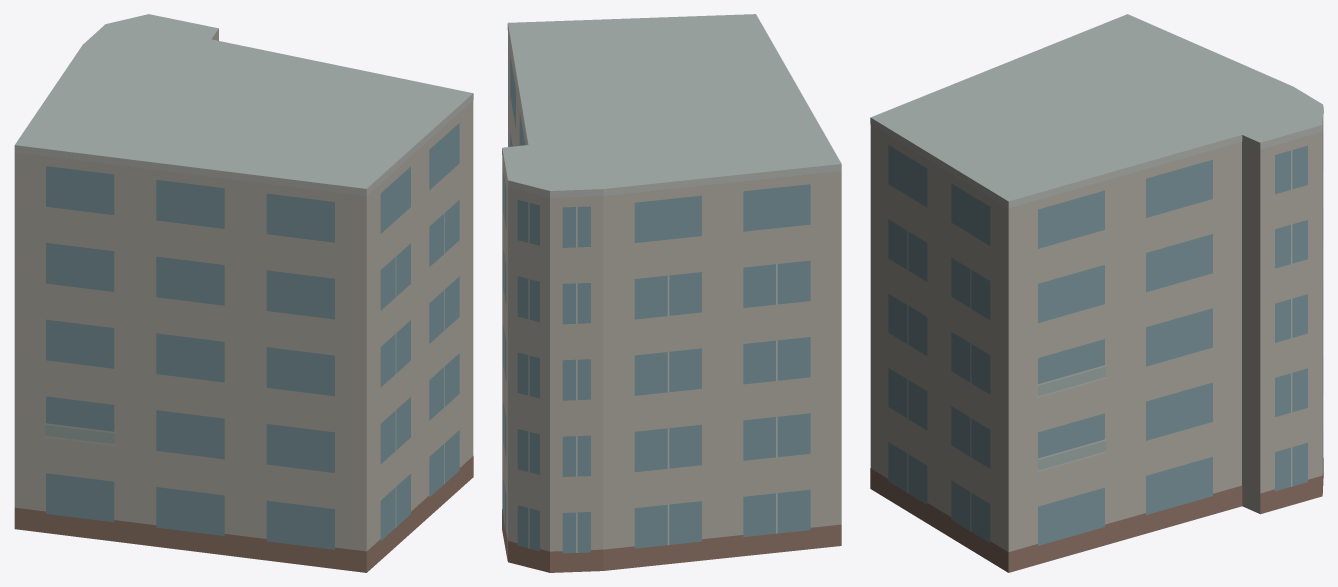
File: survey-upis-33025871.glb
3 renders of one model, left to right at view 1: azimuth 30°, elevation 25°; view 2: azimuth 150°, elevation 25°; view 3: azimuth 270°, elevation 25°, orthographic. The views are drawn at different scales.
Parts seen in each view (by area): view 1: survey-upis-33025871.tmp; view 2: survey-upis-33025871.tmp; view 3: survey-upis-33025871.tmp.
Boxes of the visible parts, bbox=[...] form: survey-upis-33025871.tmp: bbox=[14, 14, 473, 572]; survey-upis-33025871.tmp: bbox=[502, 14, 841, 572]; survey-upis-33025871.tmp: bbox=[870, 14, 1323, 572].
Size of the model in its own units: 14.52 by 13.4 by 14.82.
